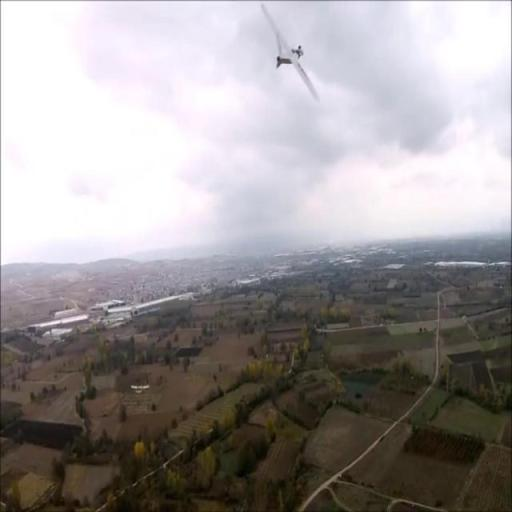uav: (260, 6, 318, 100)
